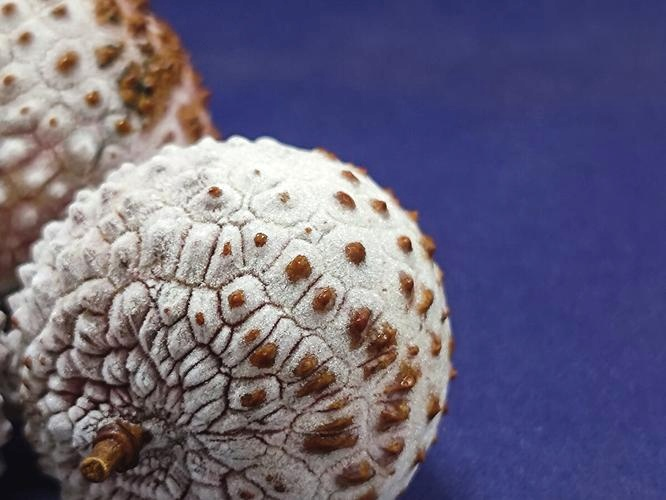Frost_Blight: (17, 157, 460, 480), (4, 0, 223, 139)
